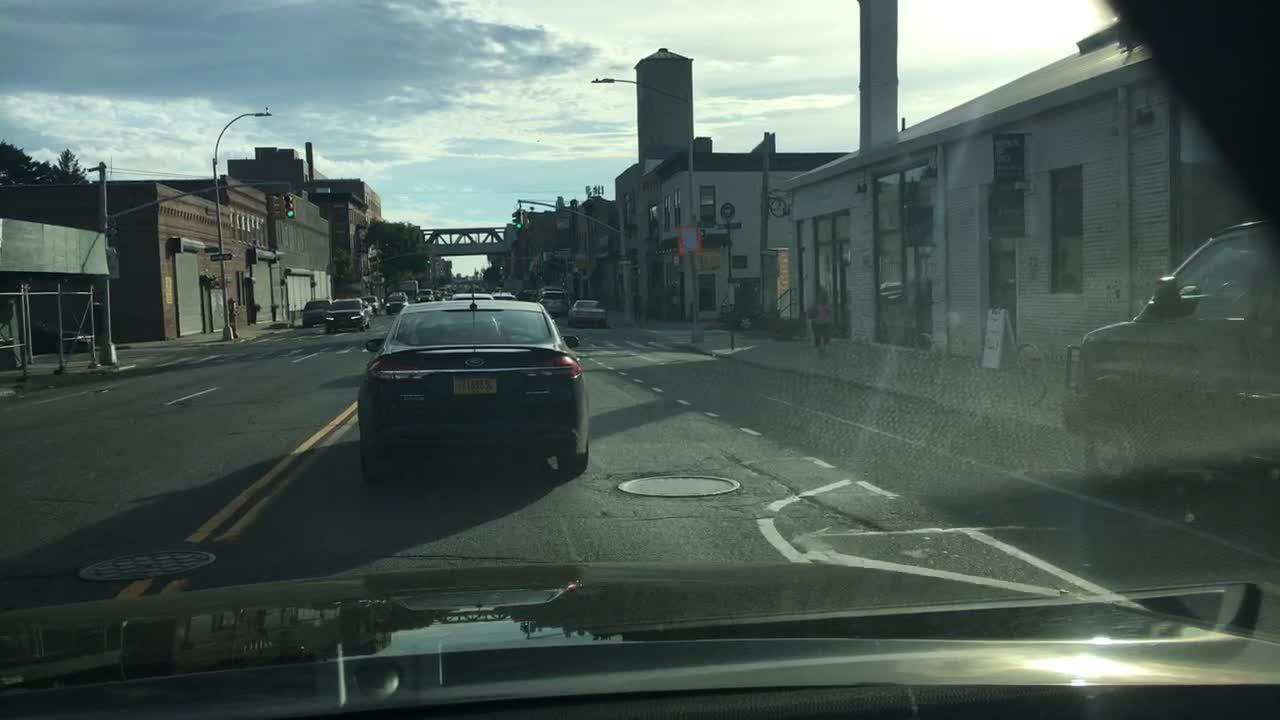ford: (460, 354, 489, 369)
